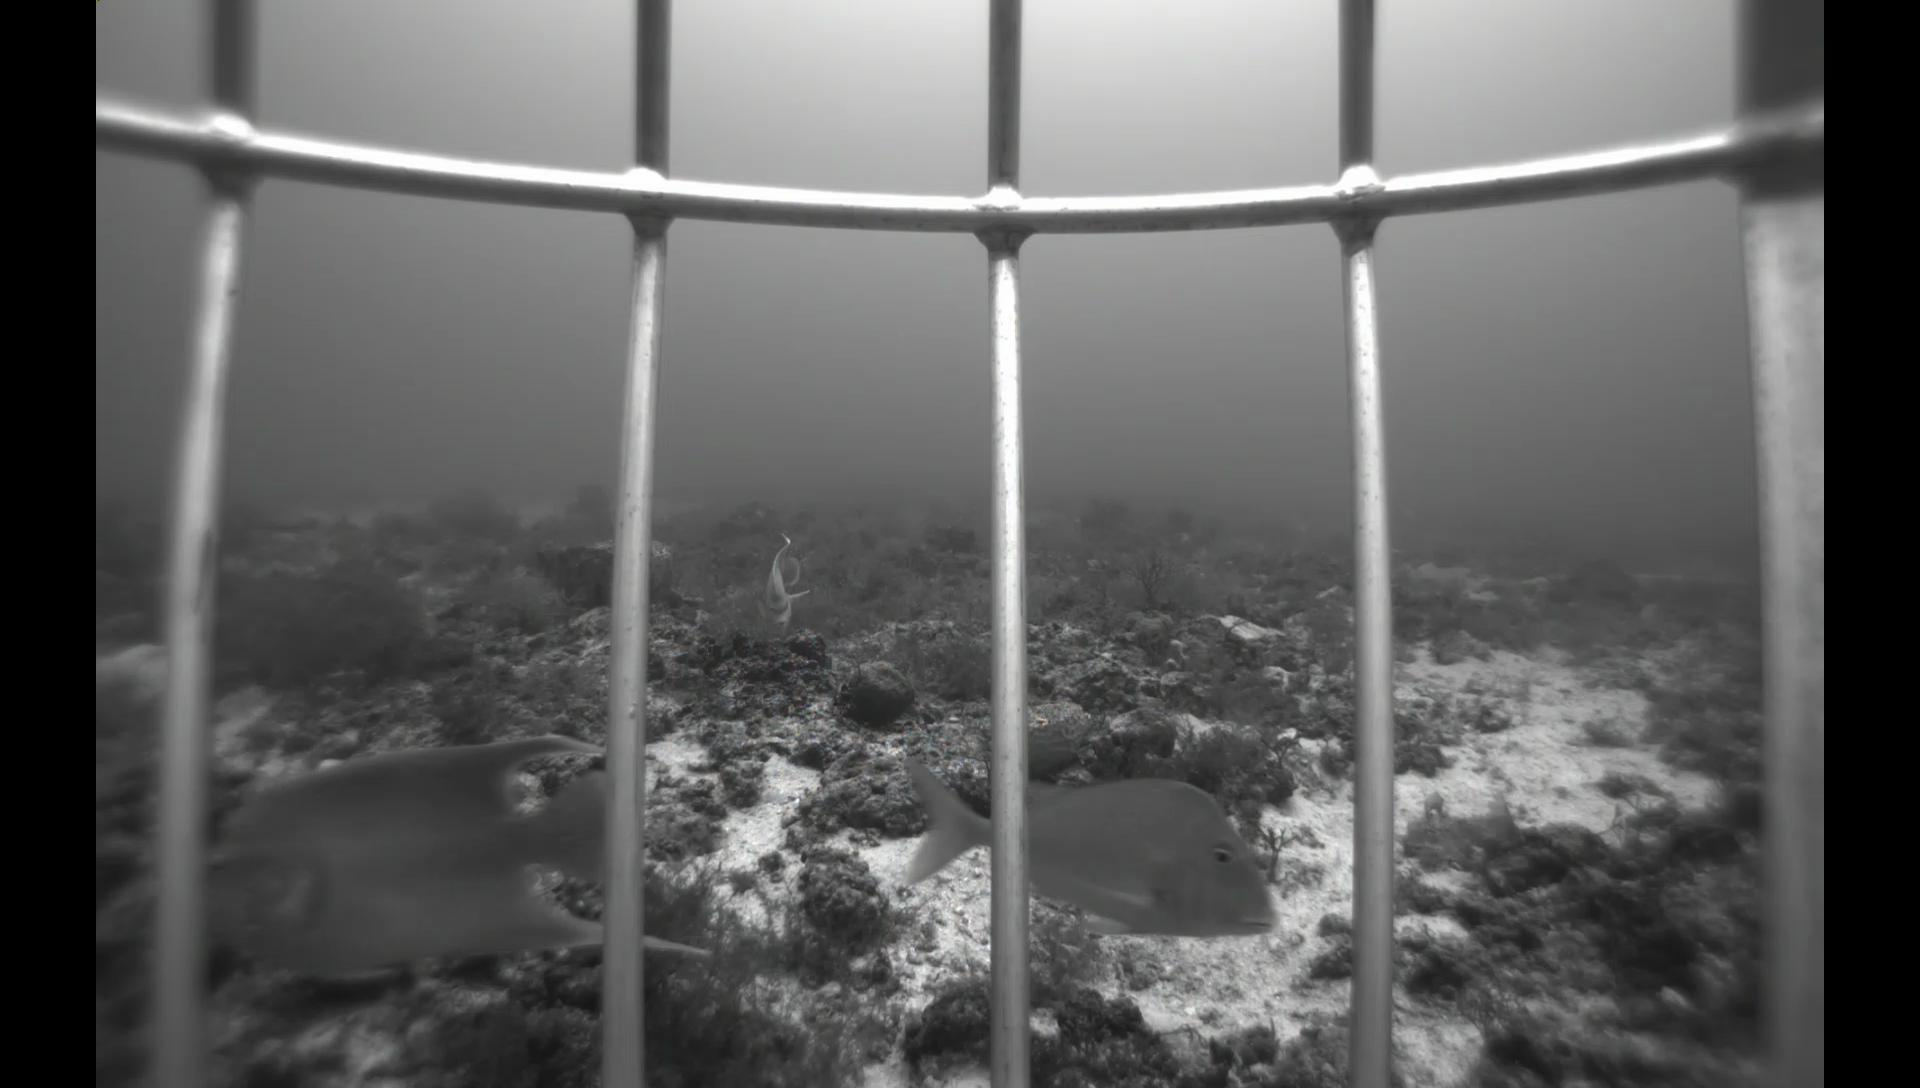CALAMUSNODOSUS-170210608: (893, 739, 1284, 955)
HOLACANTHUSBERMUDENSIS-170290102: (212, 727, 721, 1000), (746, 528, 818, 638)
MYCTEROPERCAPHENAX-170022105: (843, 510, 886, 557)
